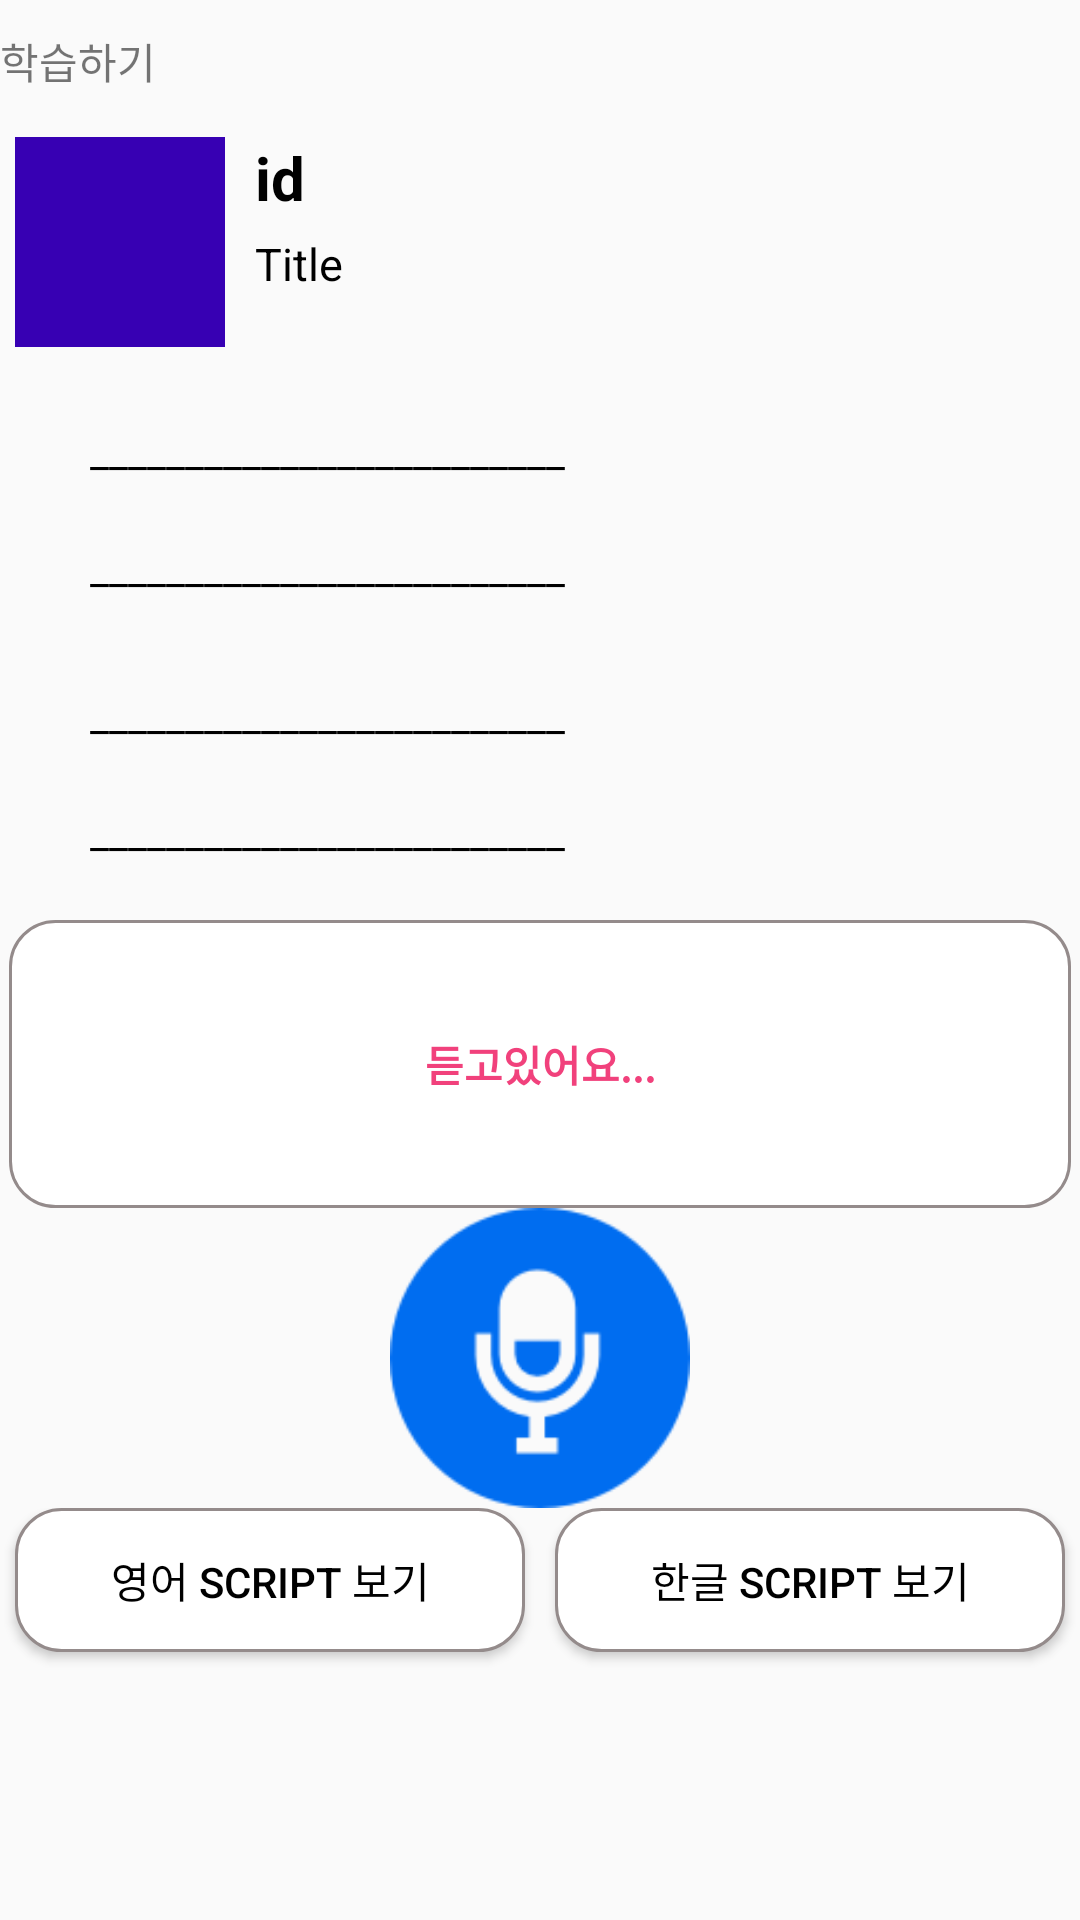

Named icons in this screenshot (1080*1920) and their bounding boxes, [x1=x1, y1=y1, x2=x2, y2=y2]:
mic: [x1=390, y1=1208, x2=690, y2=1508]
